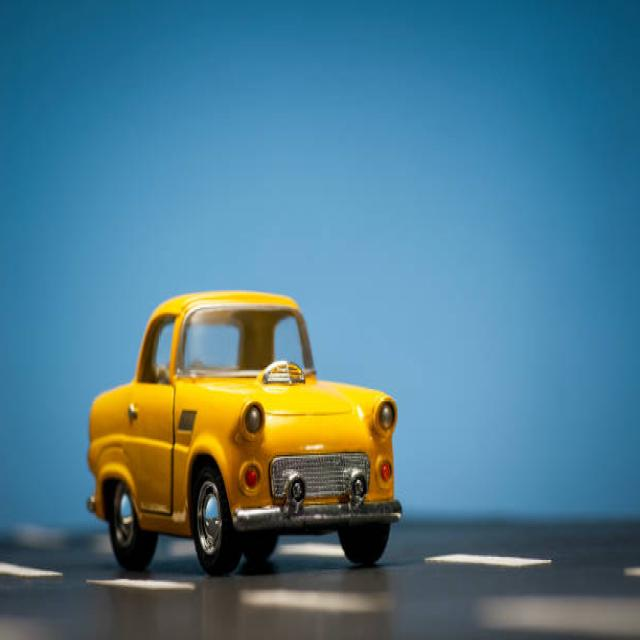Car: (86, 288, 402, 576)
